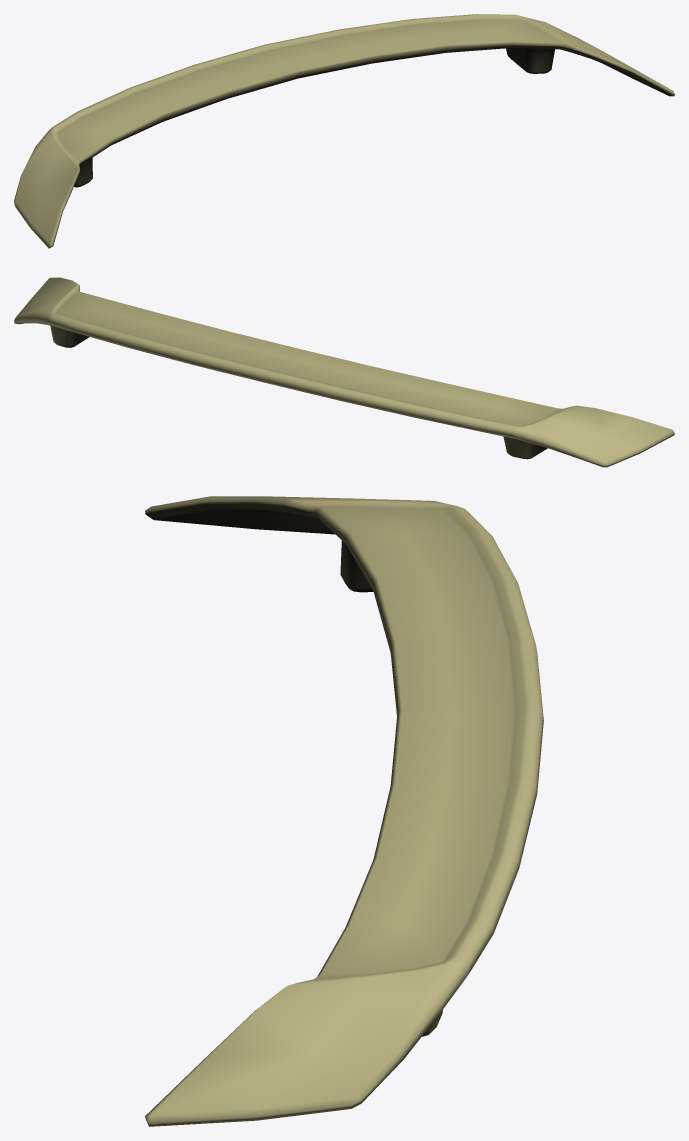
Rendered from Mustang16_Spoiler_06_Duco.fbx.
3 views of the same model, one above another, from view 1: azimuth 30°, elevation 25°; view 2: azimuth 150°, elevation 25°; view 3: azimuth 270°, elevation 25° (orthographic). The views are drawn at different scales.
Visible parts, largest first — view 1: Mustang16_Spoiler_06_Duco; view 2: Mustang16_Spoiler_06_Duco; view 3: Mustang16_Spoiler_06_Duco.
Part boxes in pixels (left/top/right/bottom): Mustang16_Spoiler_06_Duco: left=14, top=14, right=674, bottom=248; Mustang16_Spoiler_06_Duco: left=14, top=277, right=674, bottom=467; Mustang16_Spoiler_06_Duco: left=145, top=496, right=543, bottom=1126.
Size of the model in its own units: 165 by 14.78 by 45.53.
